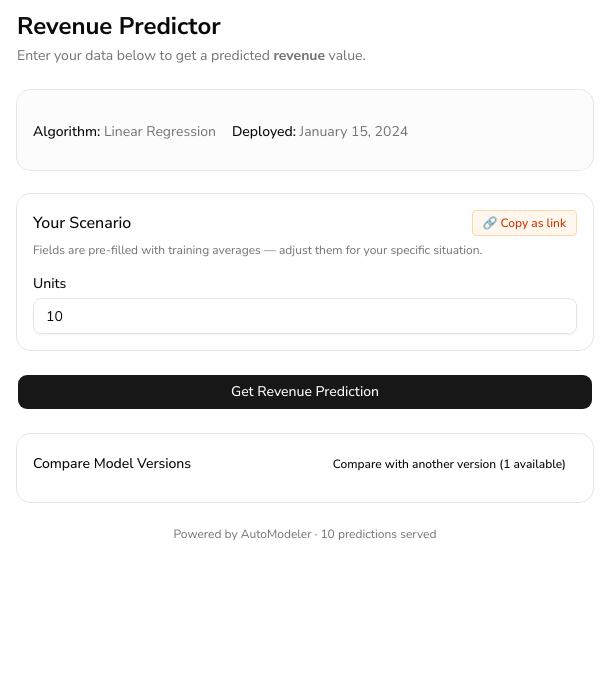
Scenario: CompareModelsCard — interaction › renders comparison results table after clicking Compare
Expected: the text "Units" is shown, [33, 274, 66, 293]
Click the button with test id "compare-toggle". click: x=449, y=464
box: [322, 450, 577, 478]
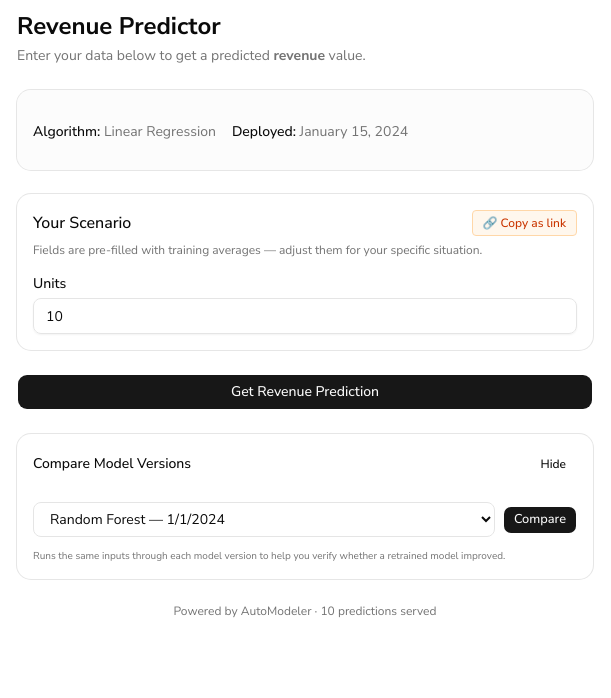
Click the button with test id "compare-button". click: x=540, y=520
box: [503, 506, 577, 534]
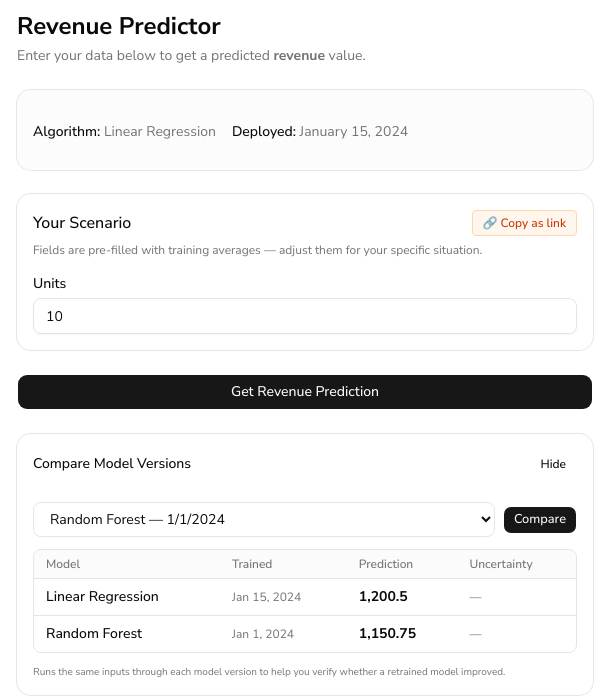
Expected: the number of cells with test id "compare-prediction" is 2, [347, 578, 457, 616]; [347, 616, 457, 652]
